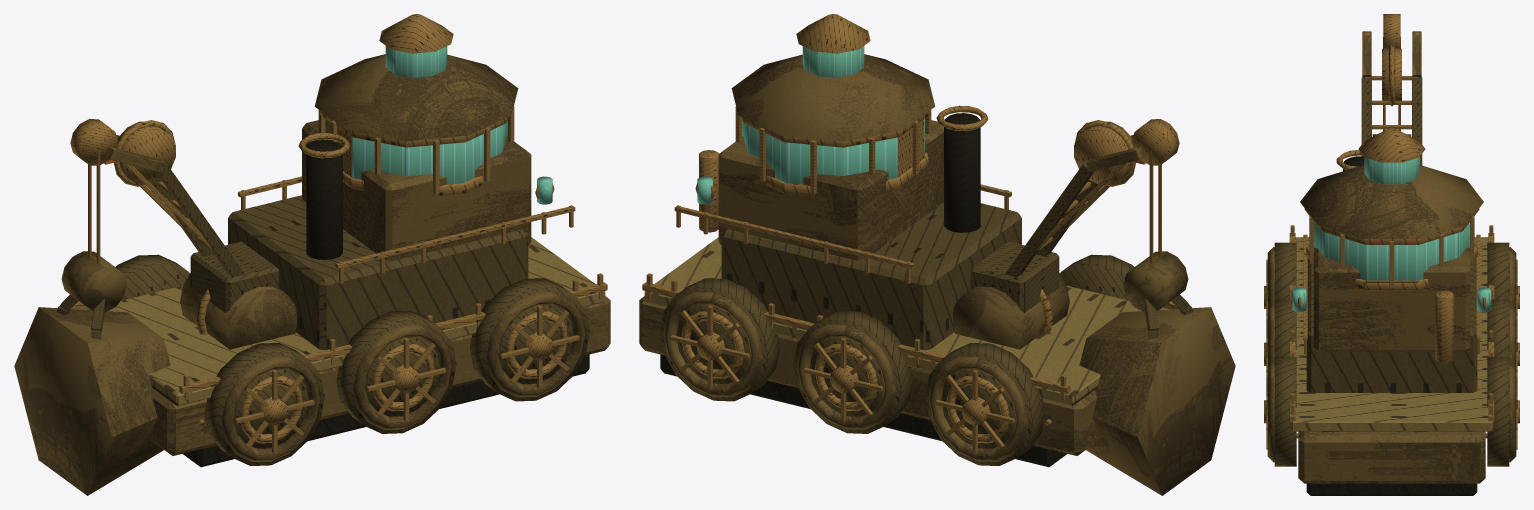
The model's file is land-yacht.glb.
3 views of the same model, side by side, from view 1: azimuth 30°, elevation 25°; view 2: azimuth 150°, elevation 25°; view 3: azimuth 270°, elevation 25° (orthographic). The views are drawn at different scales.
Visible parts, largest first — view 1: wheels, wheelhouse, crane; view 2: wheels, wheelhouse, crane; view 3: wheelhouse, wheels, crane.
Boxes of the visible parts, x1,y1,x2,y2 form: wheels: (14, 237, 610, 495); wheelhouse: (228, 14, 575, 349); crane: (56, 119, 296, 349); wheels: (639, 237, 1235, 495); wheelhouse: (674, 14, 1021, 349); crane: (953, 119, 1193, 349); wheelhouse: (1292, 128, 1491, 392); wheels: (1264, 225, 1519, 495); crane: (1361, 14, 1422, 165).
Size of the model in its own units: 9.4 by 6.77 by 4.73.
1 material, 1 textured.
